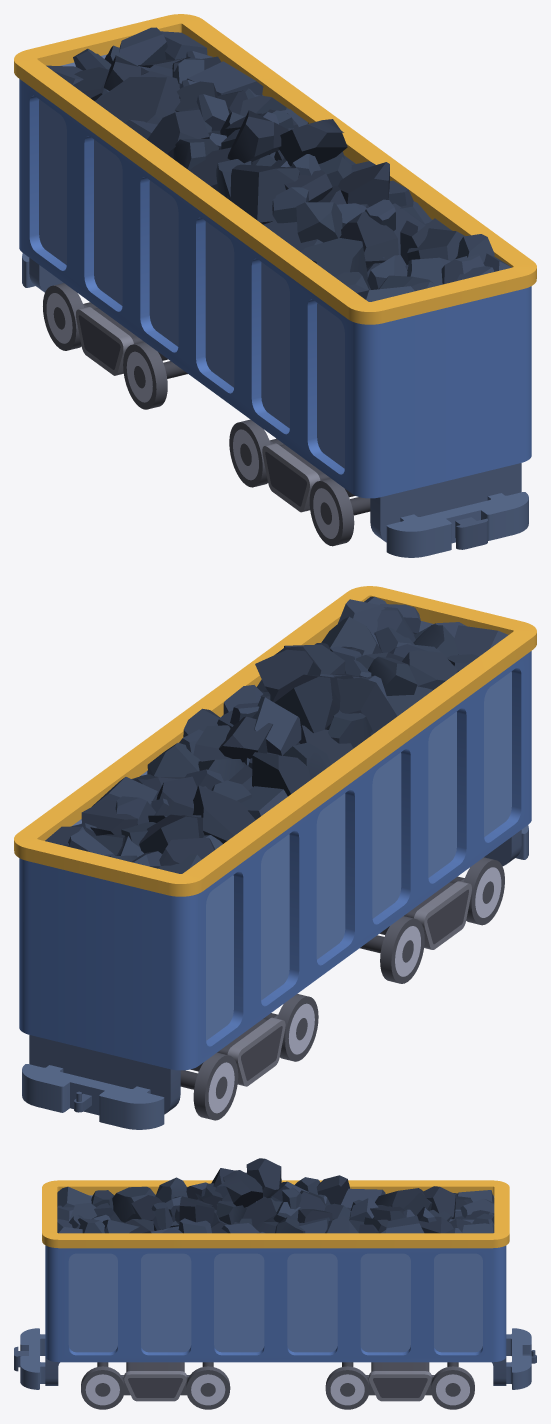
Rendered from Wagon Coal.fbx.
3 renders of one model, top to bottom at view 1: azimuth 30°, elevation 25°; view 2: azimuth 150°, elevation 25°; view 3: azimuth 270°, elevation 25°, orthographic. The views are drawn at different scales.
Parts seen in each view (by area): view 1: Wagon Coal, Coal, Wagon Coal Wheel, Wagon Coal Wheel.005, Wagon Coal Wheel.004, Wagon Coal Wheel.002, Wagon Coal Wheel.001, Wagon Coal Wheel.003; view 2: Wagon Coal, Coal, Wagon Coal Wheel.004, Wagon Coal Wheel.005, Wagon Coal Wheel.003, Wagon Coal Wheel.001, Wagon Coal Wheel.002, Wagon Coal Wheel; view 3: Wagon Coal, Coal, Wagon Coal Wheel.005, Wagon Coal Wheel.004, Wagon Coal Wheel.002, Wagon Coal Wheel.001, Wagon Coal Wheel.003, Wagon Coal Wheel.
Boxes of the visible parts, box(x1,y1,x2,y2) form: Wagon Coal: box(14, 14, 536, 557); Coal: box(46, 27, 511, 301); Wagon Coal Wheel: box(309, 478, 370, 546); Wagon Coal Wheel.005: box(262, 440, 354, 512); Wagon Coal Wheel.004: box(76, 304, 167, 375); Wagon Coal Wheel.002: box(123, 342, 187, 409); Wagon Coal Wheel.001: box(229, 419, 284, 487); Wagon Coal Wheel.003: box(43, 283, 97, 350); Wagon Coal: box(14, 586, 536, 1129); Coal: box(45, 596, 508, 873); Wagon Coal Wheel.004: box(190, 1015, 285, 1086); Wagon Coal Wheel.005: box(379, 878, 471, 949); Wagon Coal Wheel.003: box(180, 1052, 238, 1120); Wagon Coal Wheel.001: box(360, 916, 424, 983); Wagon Coal Wheel.002: box(263, 994, 318, 1061); Wagon Coal Wheel: box(450, 857, 504, 925); Wagon Coal: box(14, 1180, 536, 1389); Coal: box(57, 1158, 494, 1233); Wagon Coal Wheel.005: box(121, 1362, 189, 1401); Wagon Coal Wheel.004: box(366, 1362, 434, 1401); Wagon Coal Wheel.002: box(325, 1362, 369, 1409); Wagon Coal Wheel.001: box(186, 1362, 230, 1409); Wagon Coal Wheel.003: box(431, 1362, 474, 1409); Wagon Coal Wheel: box(81, 1362, 124, 1409).
Size of the model in its own units: 2.71 by 4.56 by 10.1.
